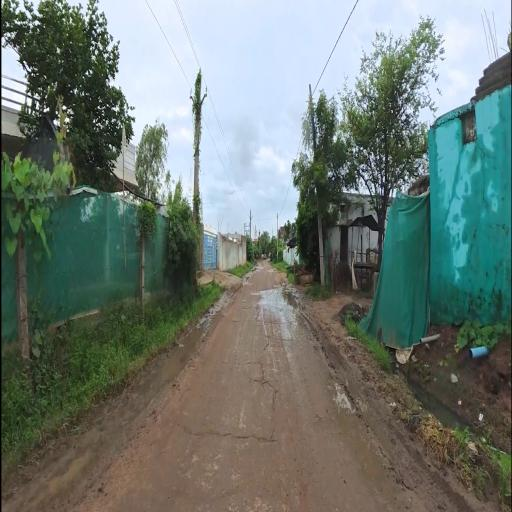longitudinal_crack: (185, 323, 299, 473)
